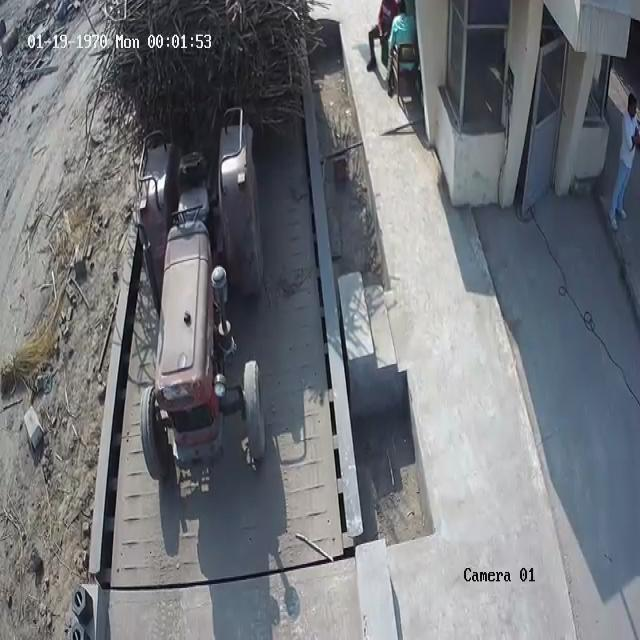Tratores - v5 YOLO V8L 2024-11-13: (128, 122, 273, 490)
